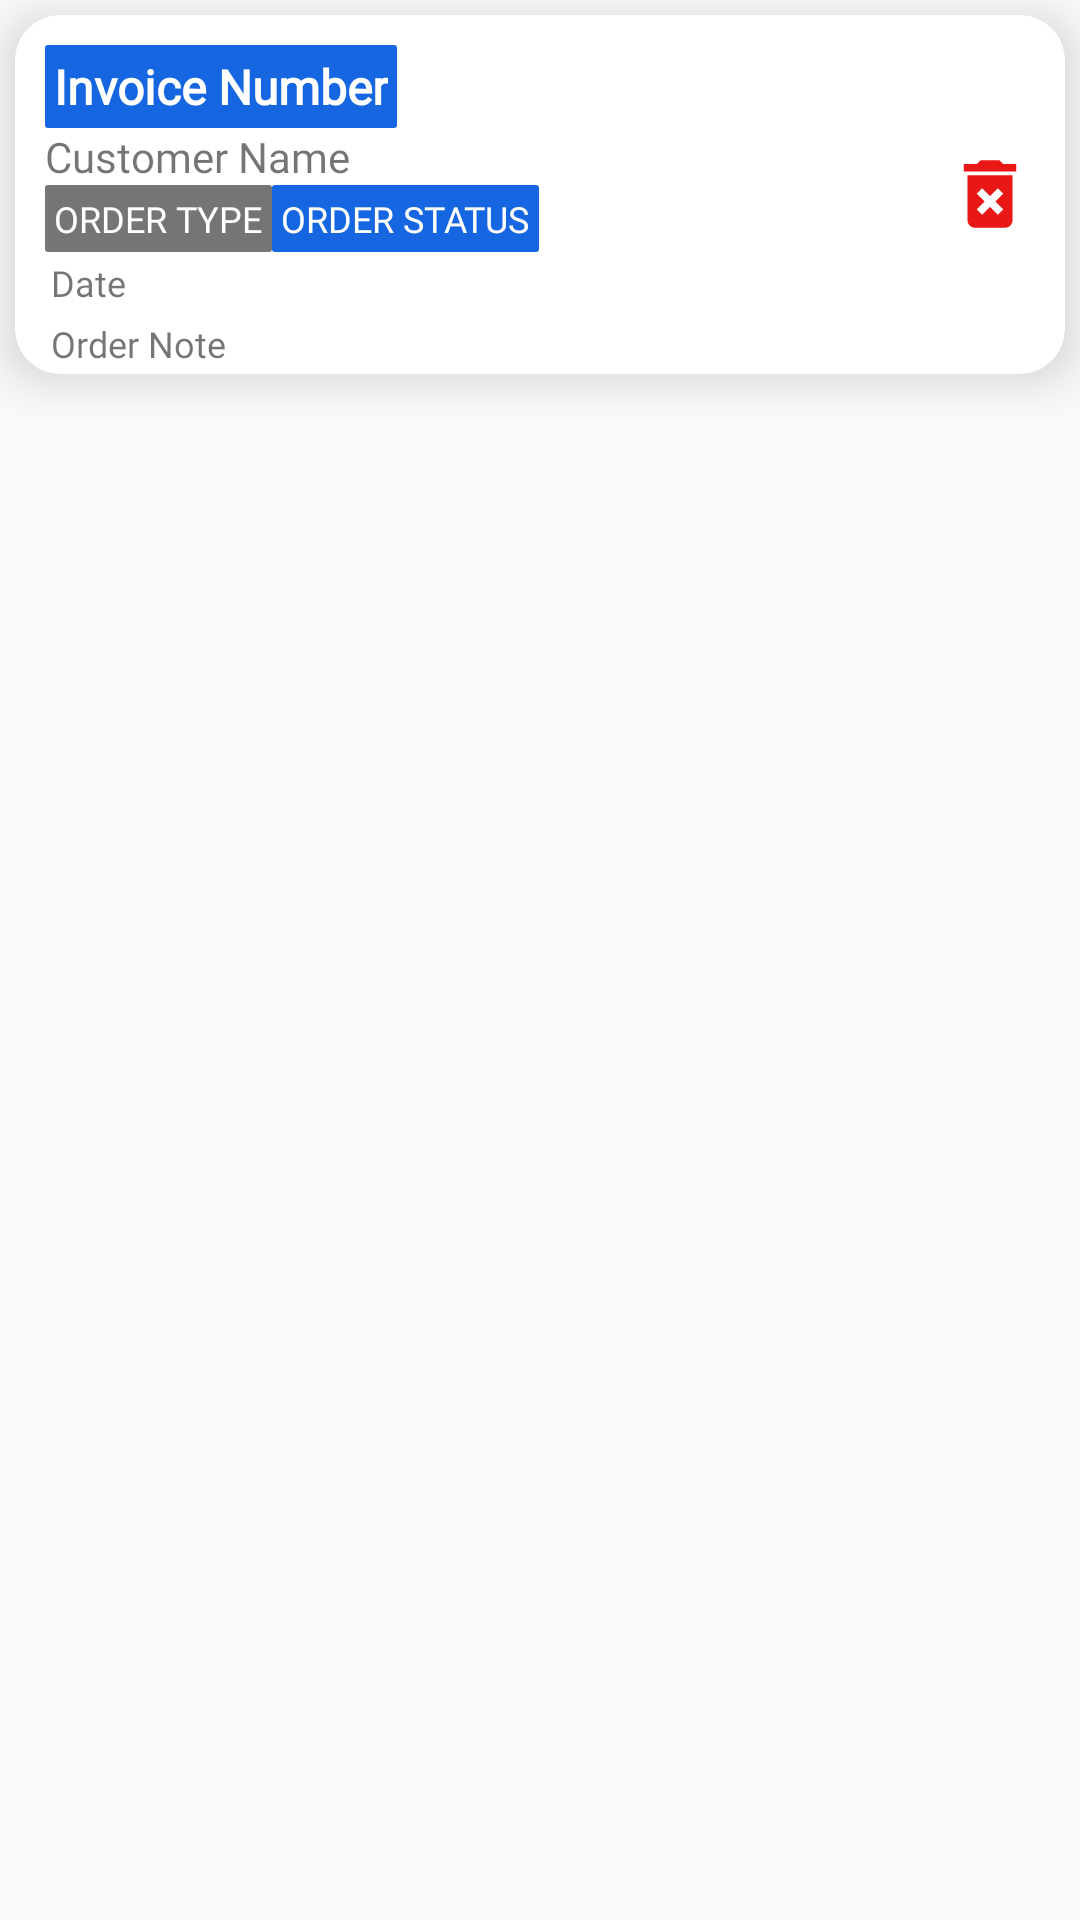

Icons on this 1080×1920 Android screen, each with the point to tap as [x,y]:
delete cart: [990,194]
